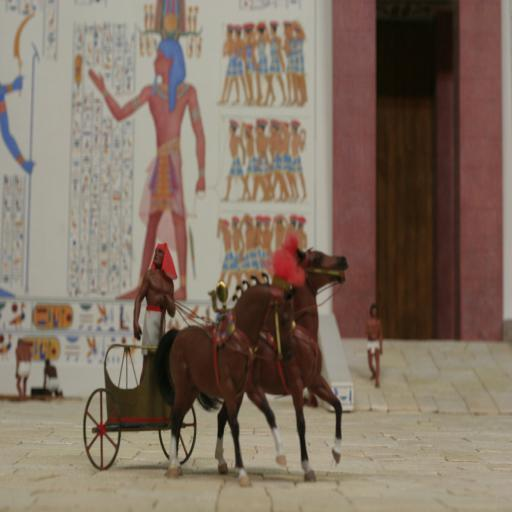horse: (151, 271, 300, 491), (216, 246, 349, 486)
